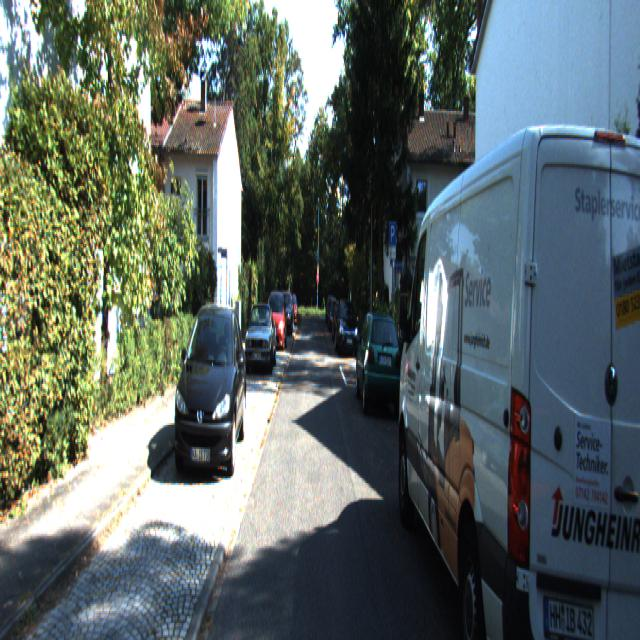Car: (395, 92, 640, 638), (172, 300, 246, 494), (357, 309, 405, 420), (244, 299, 275, 370), (336, 297, 360, 357), (266, 288, 286, 350)
